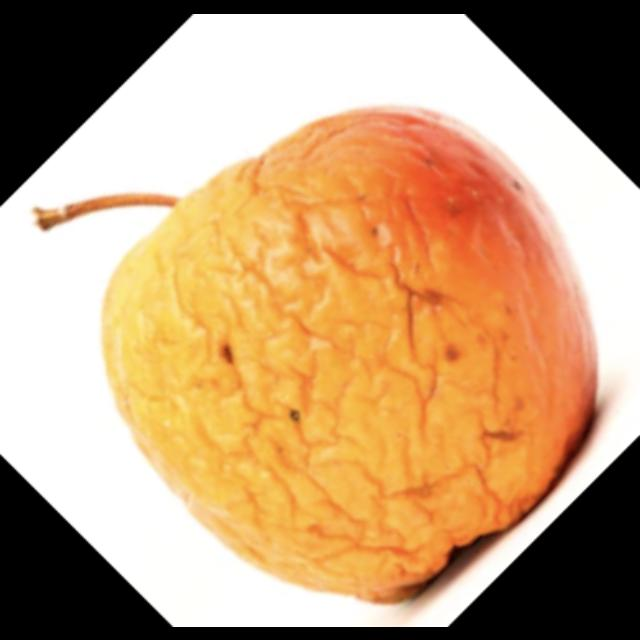Apel Tidak Segar: (96, 105, 607, 616)
